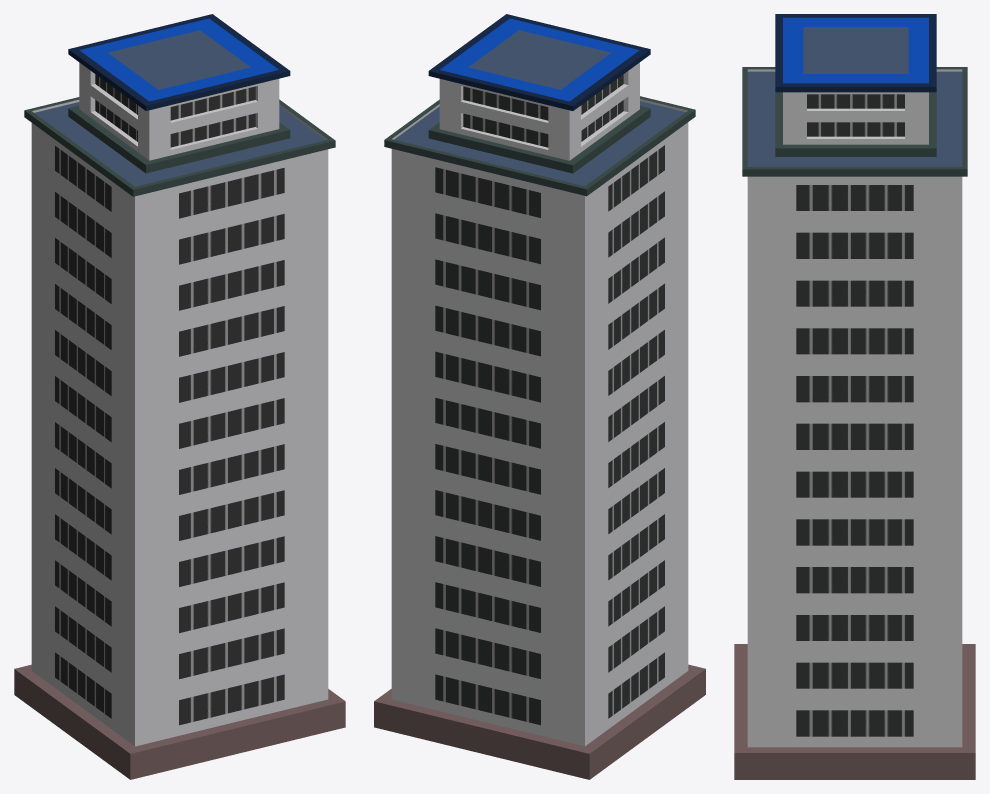
Rendered from building31a.FBX.
3 views of the same model, side by side, from view 1: azimuth 30°, elevation 25°; view 2: azimuth 150°, elevation 25°; view 3: azimuth 270°, elevation 25° (orthographic). The views are drawn at different scales.
Visible parts, largest first — view 1: building31a; view 2: building31a; view 3: building31a.
Part boxes in pixels (x1,y1,x2,y2): building31a: [14, 14, 345, 779]; building31a: [374, 14, 705, 779]; building31a: [734, 14, 975, 779].
Bounding box in the file's own units: 17.44 × 50.37 × 16.3.
